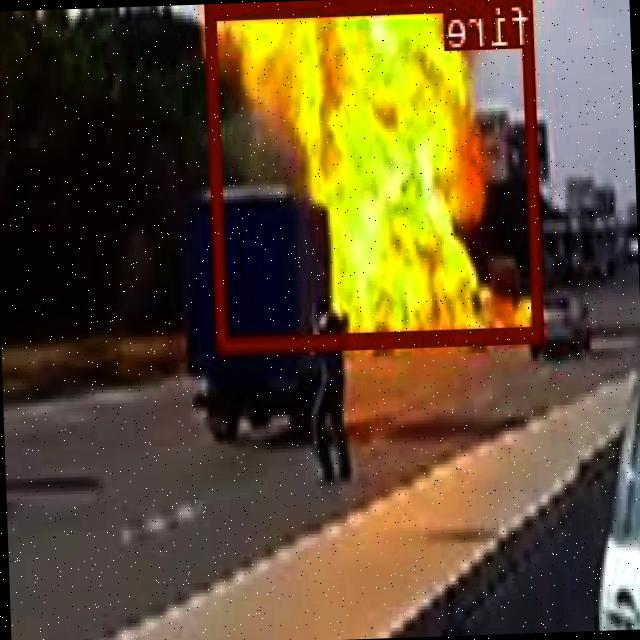fire: (206, 0, 547, 351)
